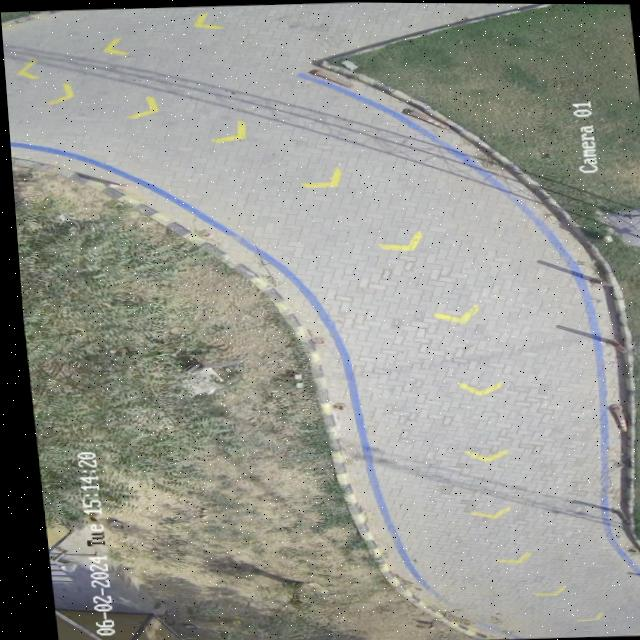No Car: (1, 2, 640, 640)
